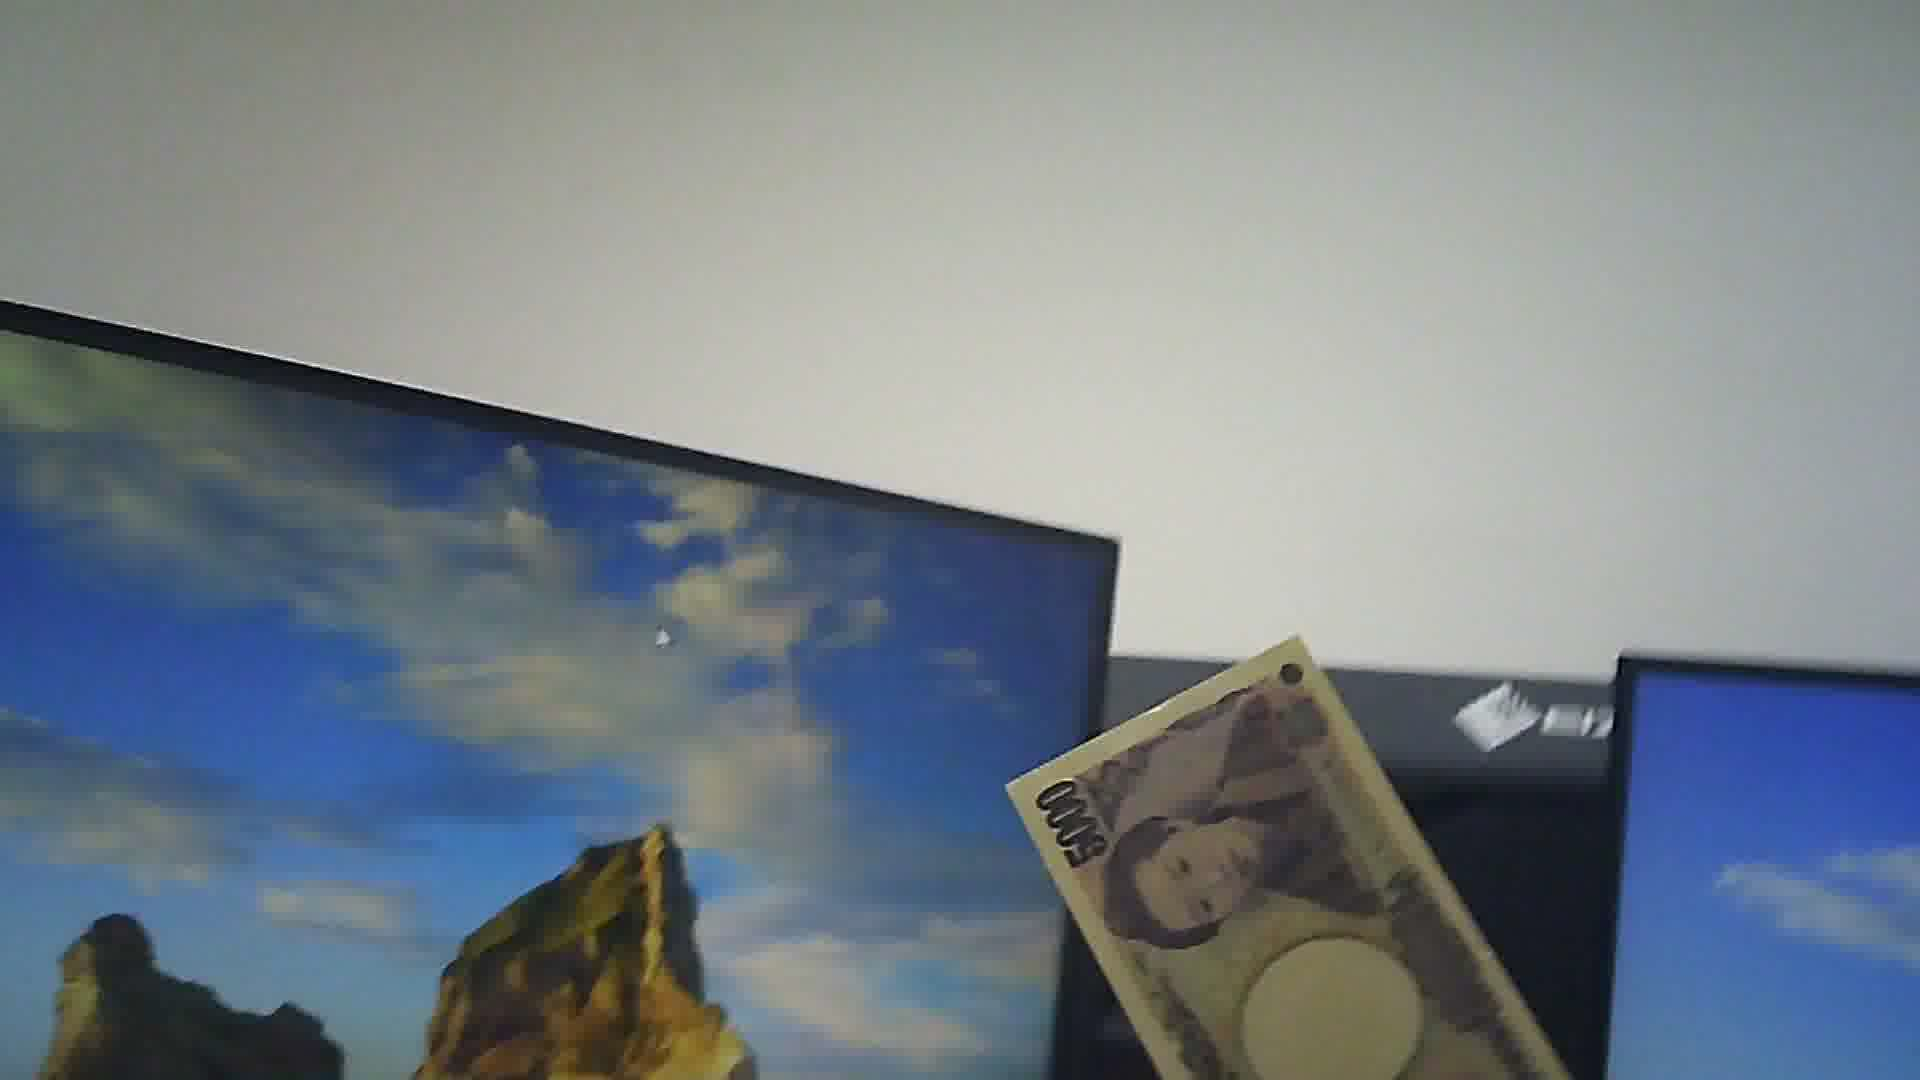5,000 Yen: (1002, 622, 1538, 1079)
